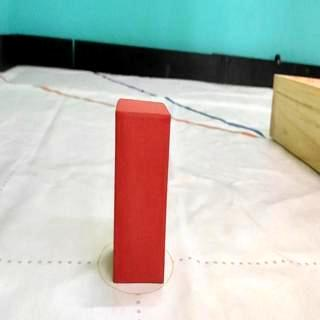redbox: (113, 97, 172, 285)
